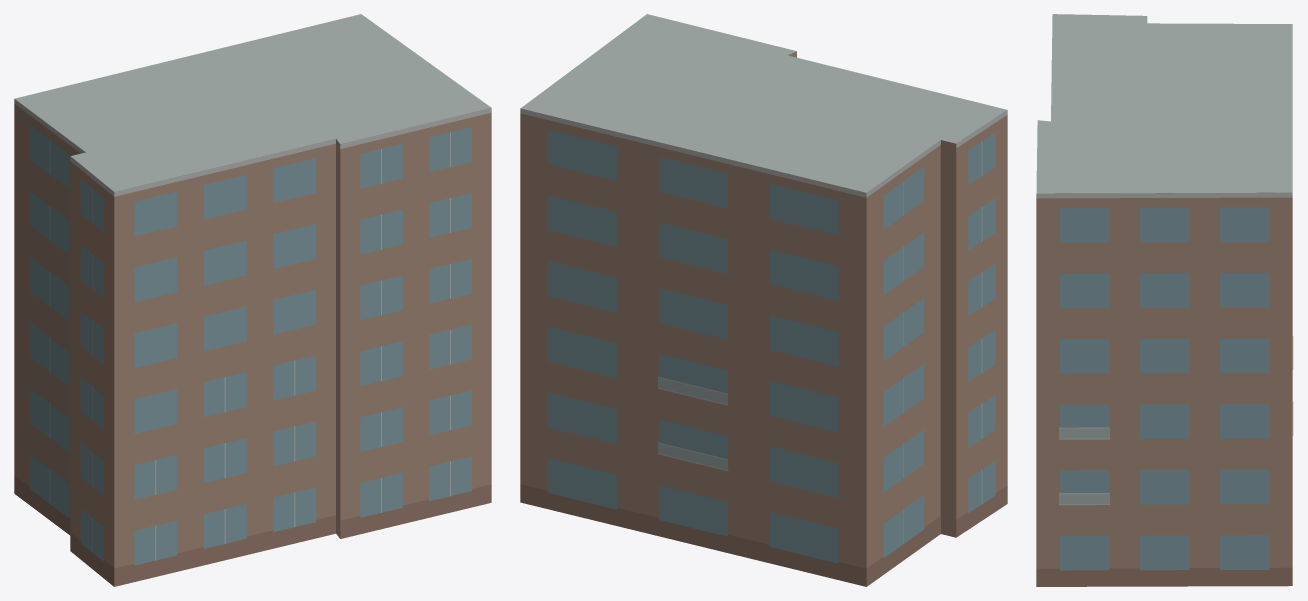
File: survey-upis-33012813.glb
The picture shows the model from 3 angles, left to right: view 1: azimuth 30°, elevation 25°; view 2: azimuth 150°, elevation 25°; view 3: azimuth 270°, elevation 25°; orthographic projection.
Parts seen in each view (by area): view 1: survey-upis-33012813.tmp; view 2: survey-upis-33012813.tmp; view 3: survey-upis-33012813.tmp.
Boxes of the visible parts, x1,y1,x2,y2 form: survey-upis-33012813.tmp: [14, 14, 491, 586]; survey-upis-33012813.tmp: [520, 14, 1007, 586]; survey-upis-33012813.tmp: [1036, 14, 1293, 586].
Size of the model in its own units: 19.18 by 19.56 by 11.59.
